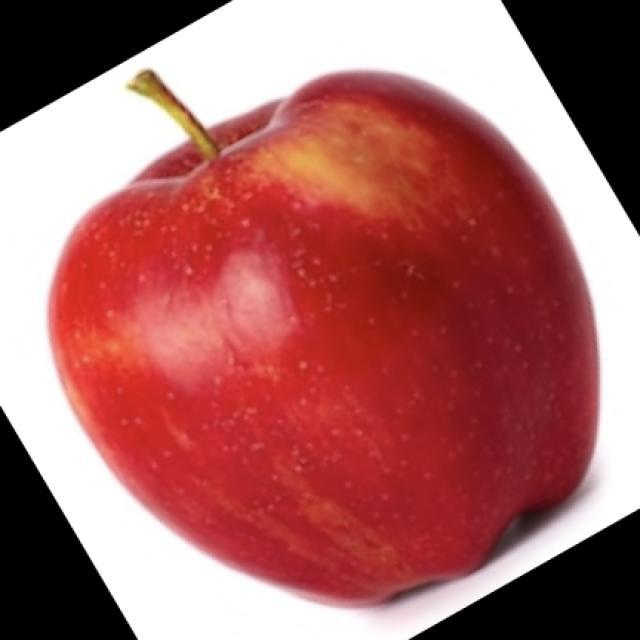Apple: (46, 65, 601, 608)
